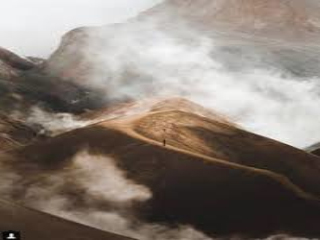smoke: (138, 36, 319, 149), (31, 151, 208, 240), (13, 89, 121, 138)
